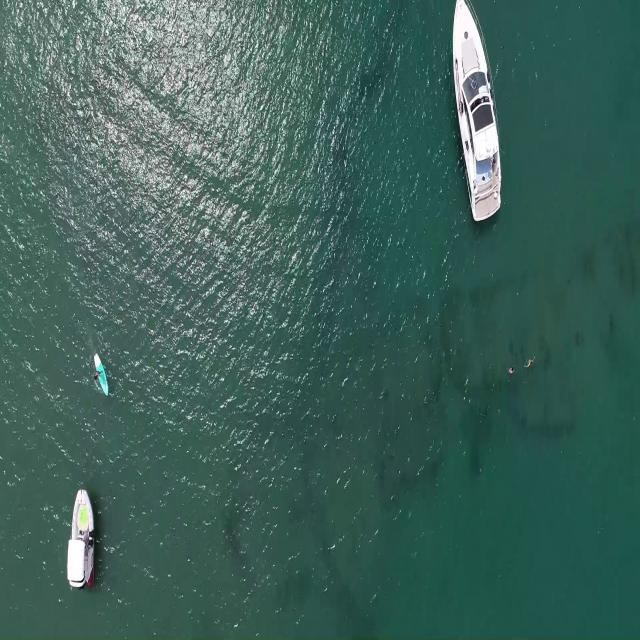boat: (450, 6, 504, 223), (65, 484, 97, 596)
person: (524, 356, 537, 371), (91, 367, 103, 382), (508, 366, 516, 376)
surfboard: (94, 351, 109, 401)
